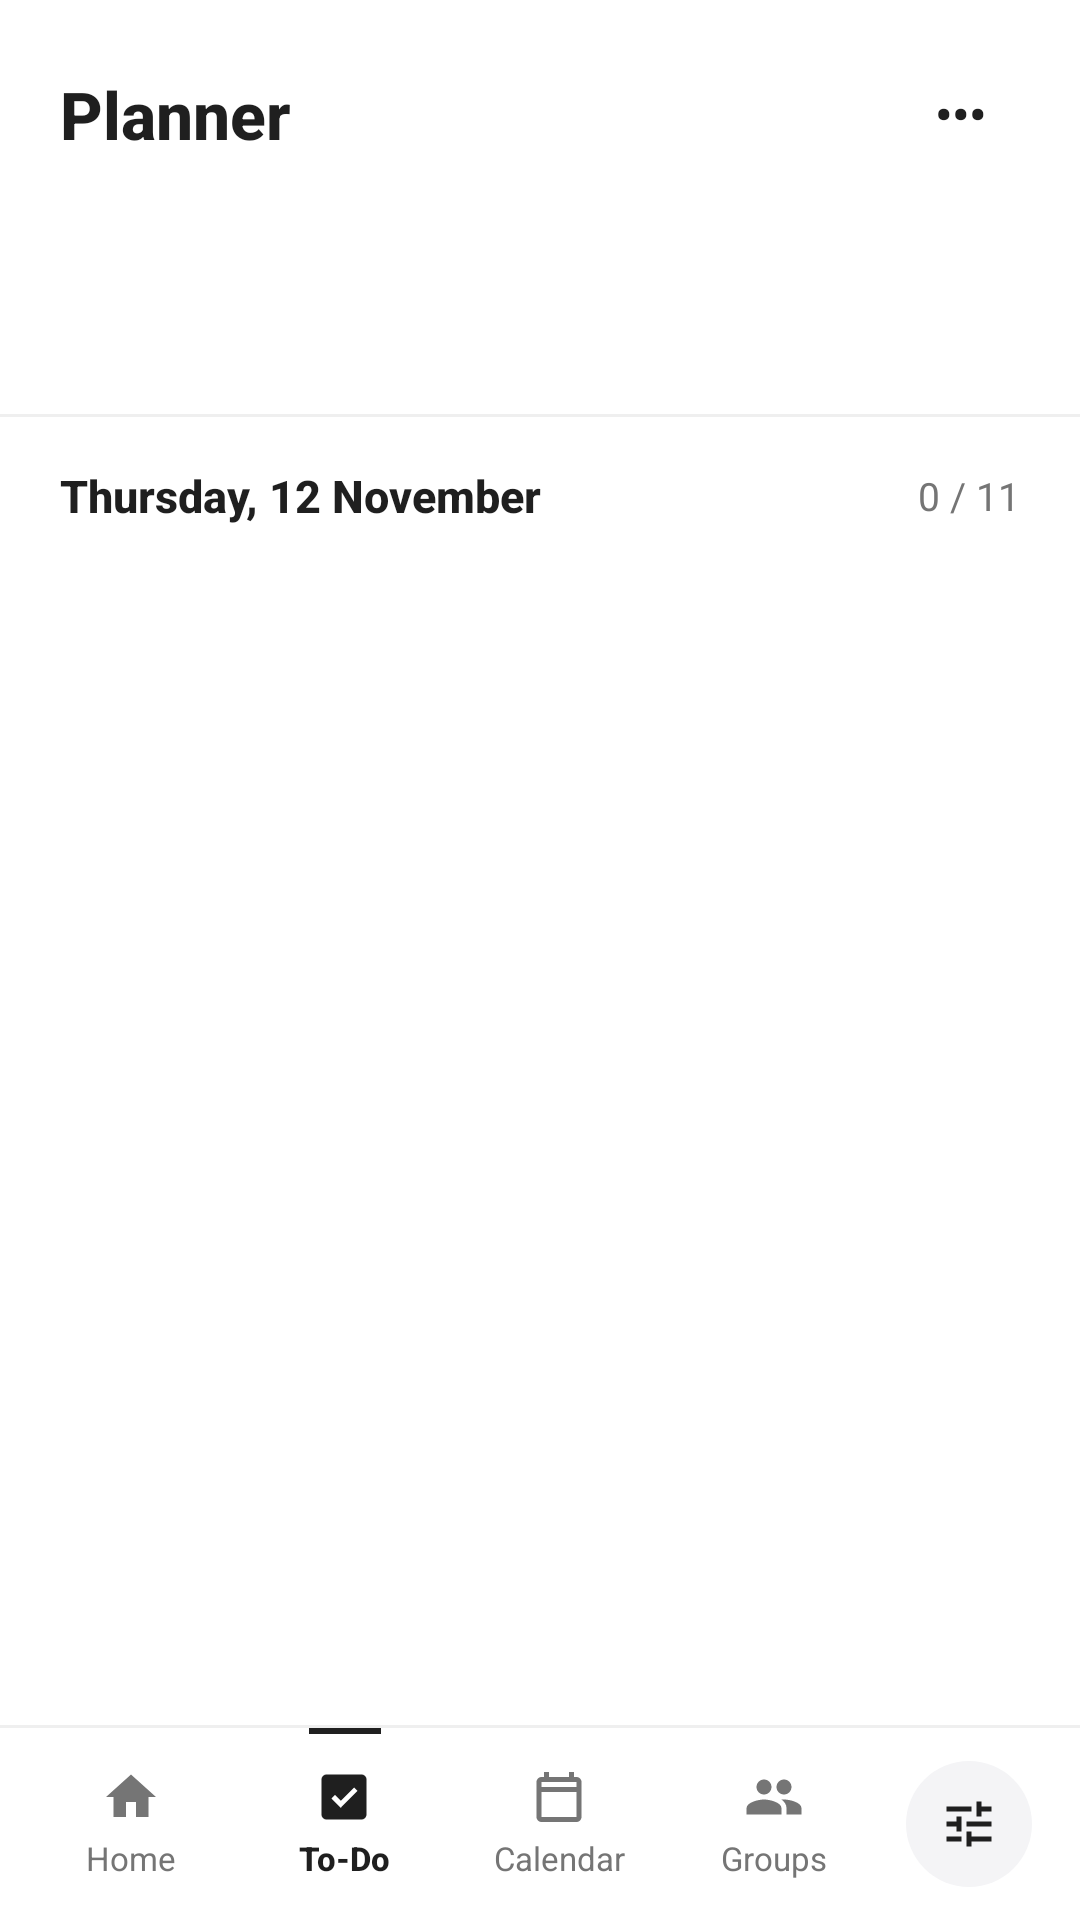

Named icons in this screenshot (1080 × 1920) and their centers, (x=x, y=y):
Pengaturan: (x=969, y=1824)
